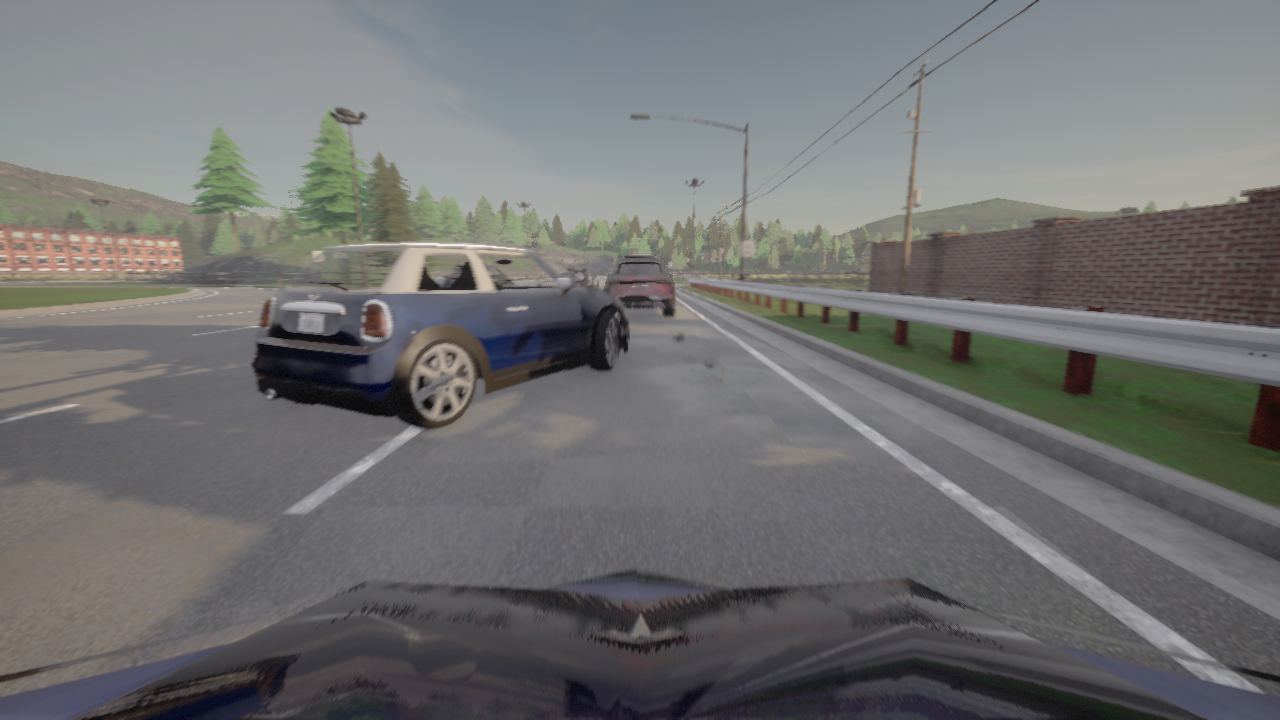cyclist: (0, 569, 1279, 719), (251, 243, 628, 429), (605, 258, 674, 316), (561, 262, 598, 288), (623, 255, 657, 259)
